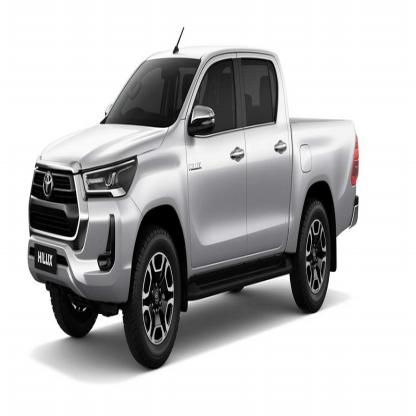light_vehicle: (25, 42, 369, 376)
